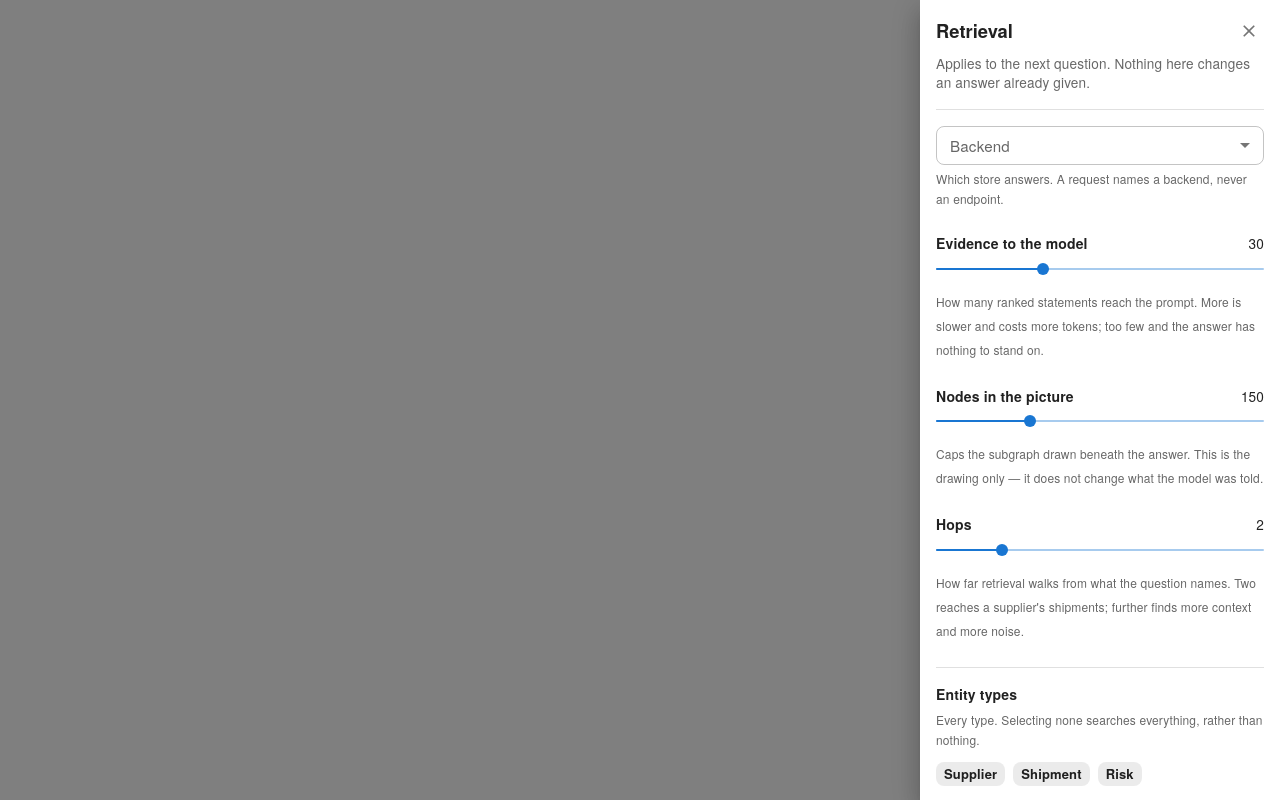
Test: RetrievalControls › offers every backend the deployment listed
The image size is (1280, 800).
Click the dropdown named "Backend": (1100, 145) [936,126,1264,165]
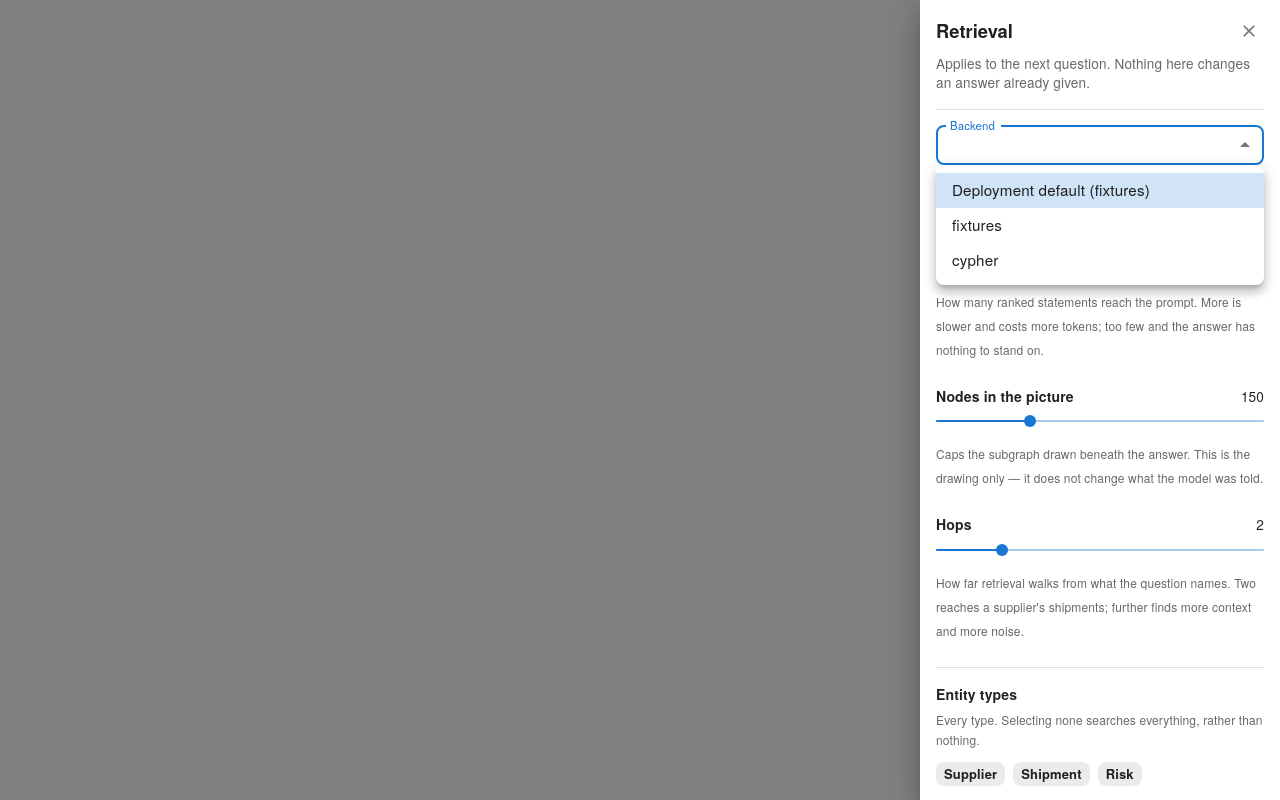
Expected: the option "cypher" is shown, [952,249,998,270]
Expected: the option "fixtures" is shown, [952,214,1002,235]
